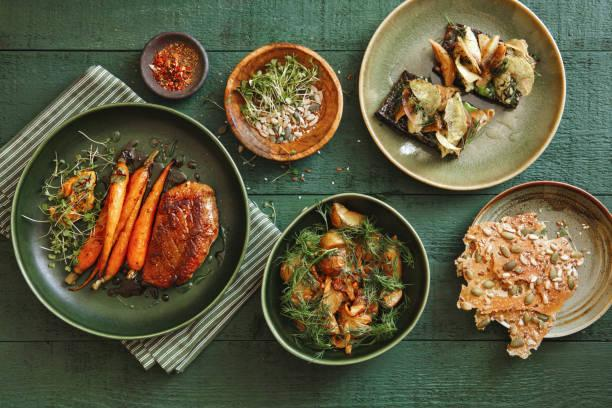Braised Crucian Carp: (13, 103, 250, 333), (365, 0, 563, 191), (264, 192, 428, 361), (465, 185, 612, 343)
